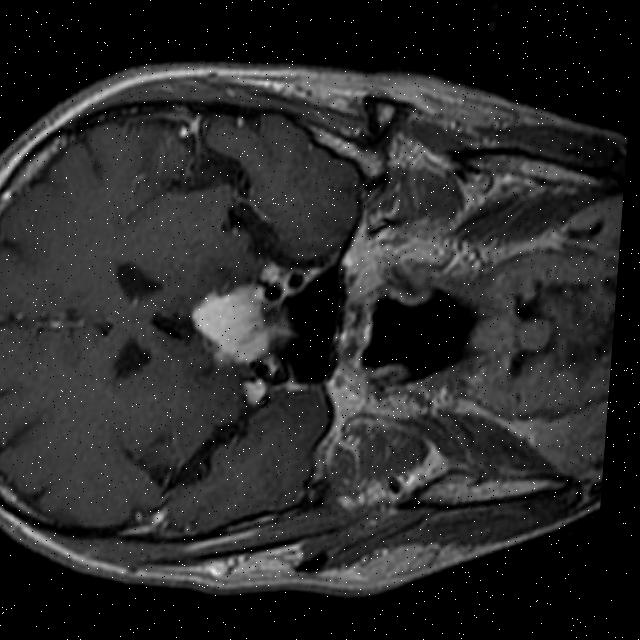Pituitary: (186, 280, 277, 368)
